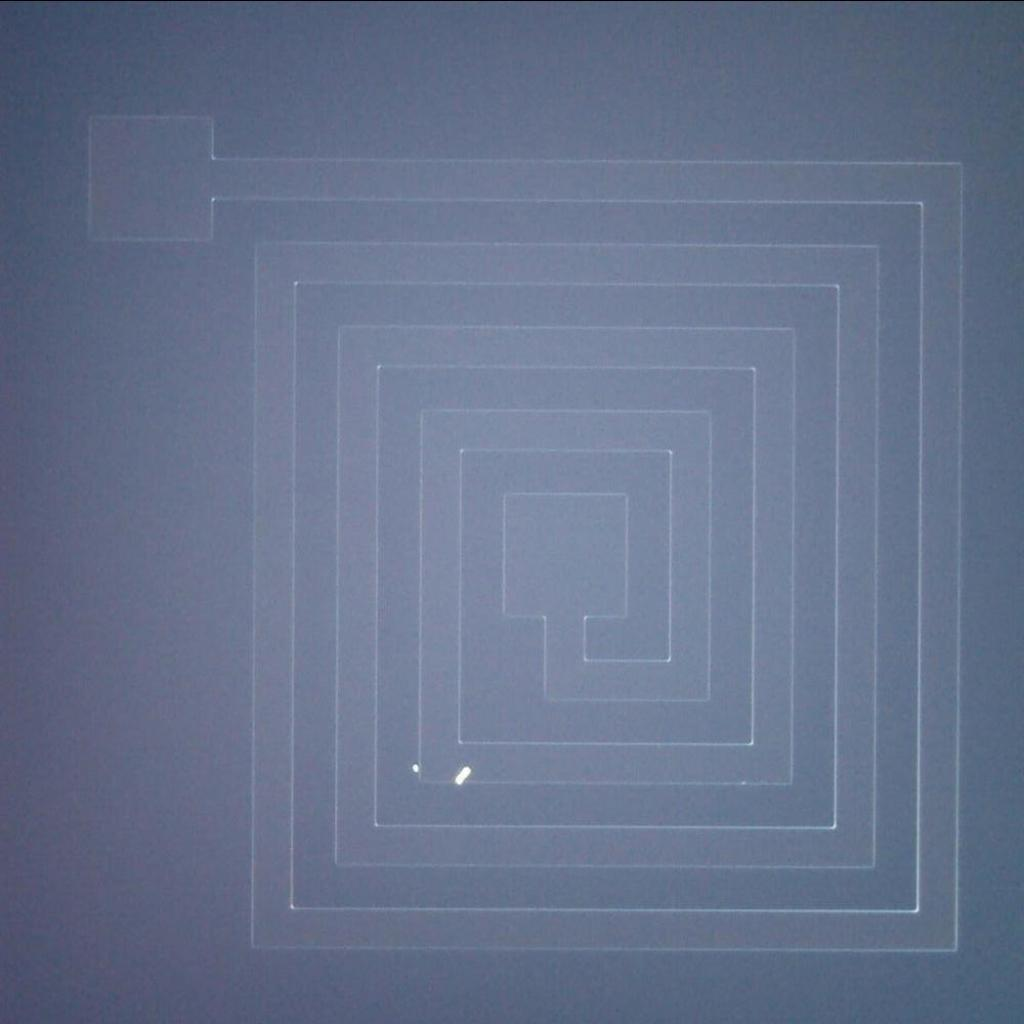dot: (402, 753, 428, 784)
spot: (448, 760, 475, 788)
